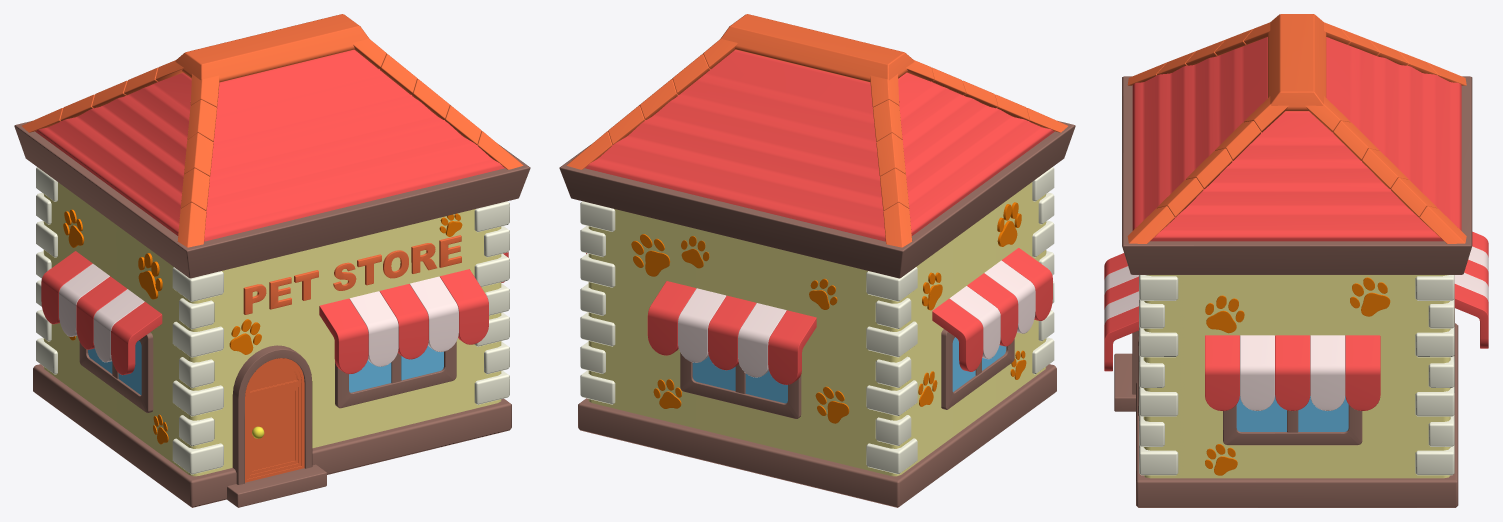
The model's file is Store_11_Pet_Store_1.glb.
3 renders of one model, left to right at view 1: azimuth 30°, elevation 25°; view 2: azimuth 150°, elevation 25°; view 3: azimuth 270°, elevation 25°, orthographic.
Visible parts, largest first — view 1: Store_11_Pet_Store_1; view 2: Store_11_Pet_Store_1; view 3: Store_11_Pet_Store_1.
Boxes of the visible parts, box(x1,y1,x2,y2) form: Store_11_Pet_Store_1: box(14, 14, 530, 507); Store_11_Pet_Store_1: box(559, 14, 1075, 507); Store_11_Pet_Store_1: box(1104, 14, 1488, 507).
Bounding box in the file's own units: 7.68 × 7.18 × 6.64.
Materials: 1 (1 with a texture image).
